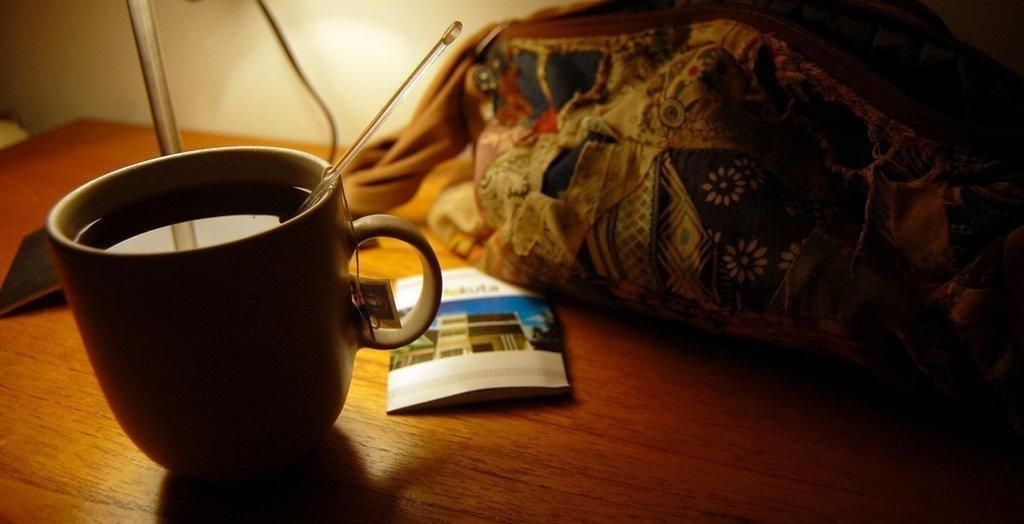cup-handle: (43, 143, 444, 480)
